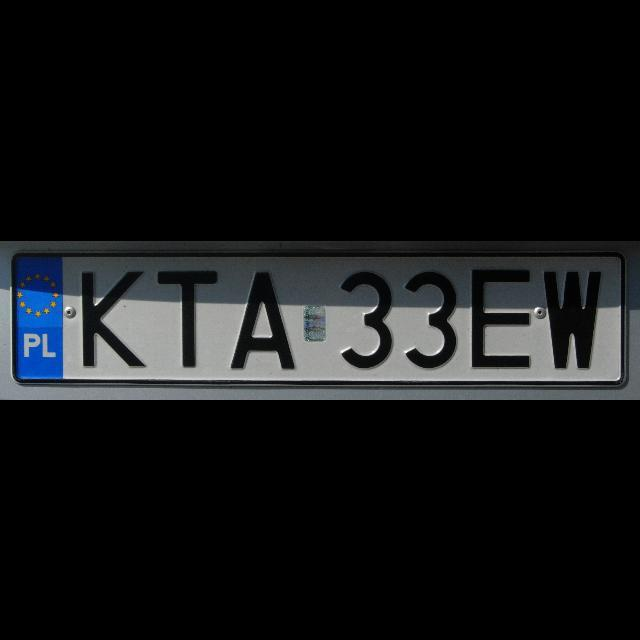license-plates: (13, 254, 626, 385)
